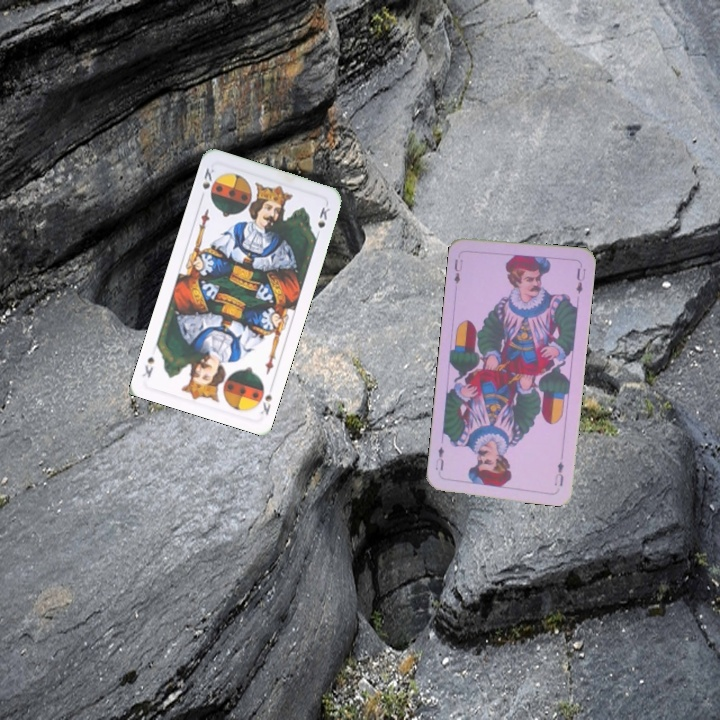EU: (550, 458, 566, 489), (450, 255, 465, 286)
SK: (253, 381, 275, 418), (198, 164, 217, 192)
